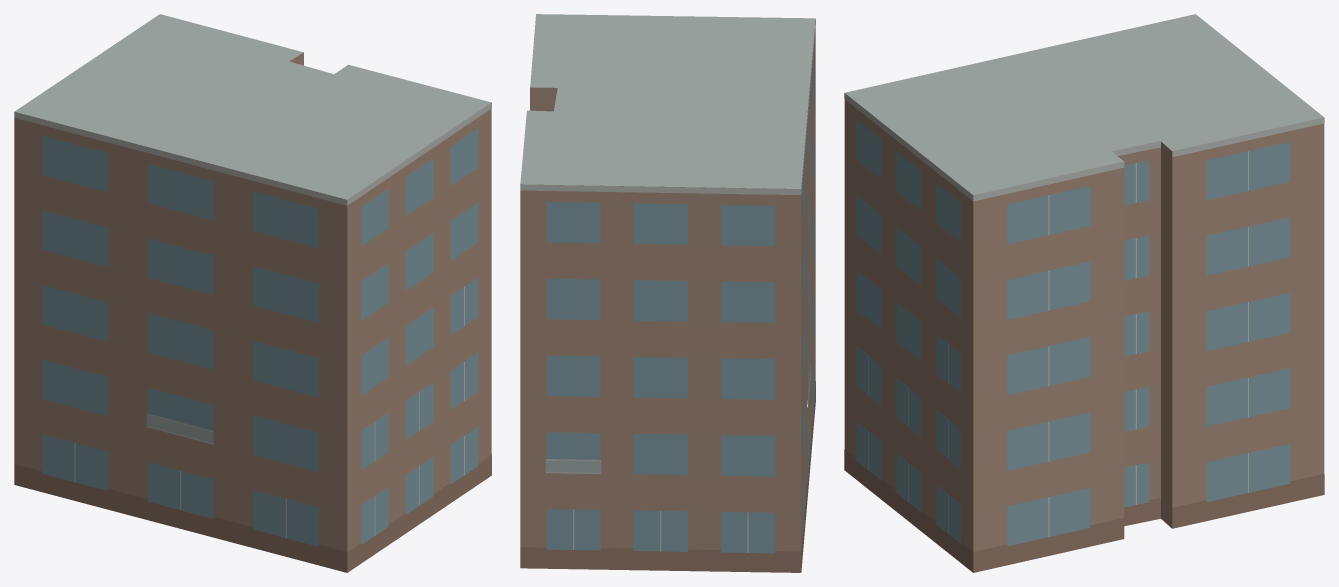
File: survey-upis-32704079.glb
The picture shows the model from 3 angles, left to right: view 1: azimuth 30°, elevation 25°; view 2: azimuth 150°, elevation 25°; view 3: azimuth 270°, elevation 25°; orthographic projection. The views are drawn at different scales.
Visible parts, largest first — view 1: survey-upis-32704079.tmp; view 2: survey-upis-32704079.tmp; view 3: survey-upis-32704079.tmp.
Part boxes in pixels (x1=…): survey-upis-32704079.tmp: x1=14, y1=14, x2=491, y2=572; survey-upis-32704079.tmp: x1=520, y1=14, x2=815, y2=572; survey-upis-32704079.tmp: x1=844, y1=14, x2=1324, y2=572.
Size of the model in its own units: 15.73 by 15.25 by 17.58.
